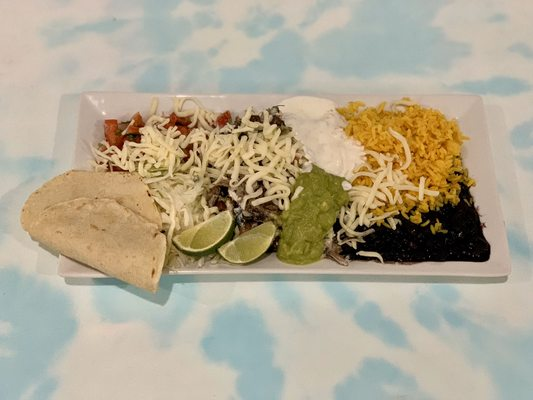curry: (276, 167, 350, 266)
soup: (20, 169, 169, 293)
taco: (172, 211, 236, 256)
